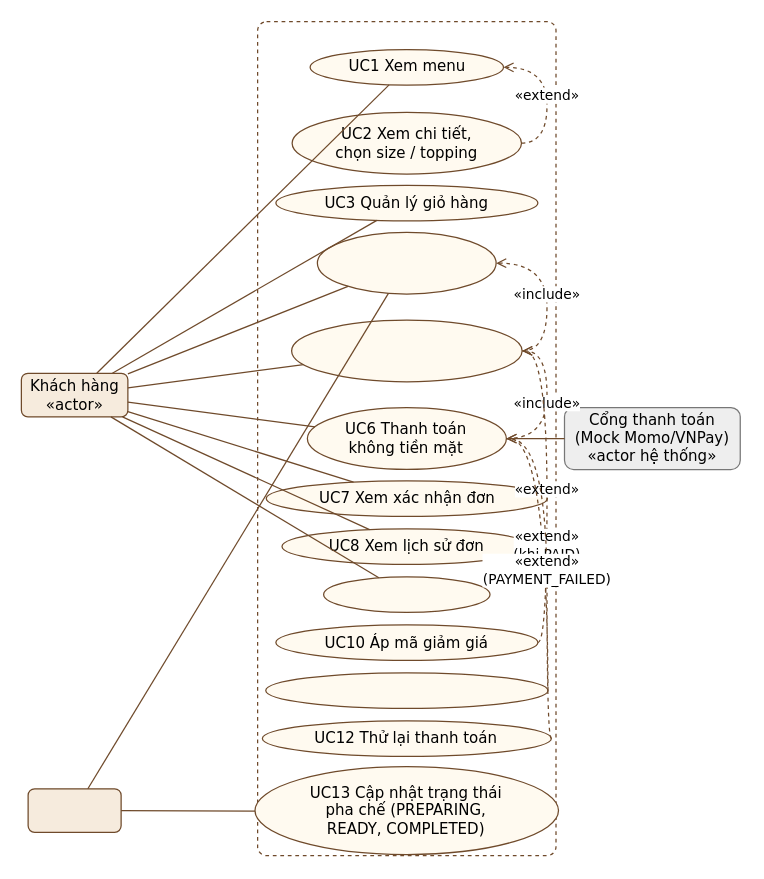
Image size: 764x879. Some labels were removed from this diagram. The shapes that lost their labels are listed below. From the top down, each one's box as (x1, y1, x2, y2) in pixels, then its label:
(316, 231, 496, 294): UC4 Đăng ký / Đăng nhập
(290, 319, 522, 382): UC5 Đặt đơn (tạo đơn PENDING)
(256, 20, 556, 856): Hệ thống BrewLite
(322, 576, 490, 612): UC9 Hủy đơn
(264, 672, 548, 708): UC11 Tích điểm thưởng
(27, 788, 121, 832): Nhân viên «actor»
